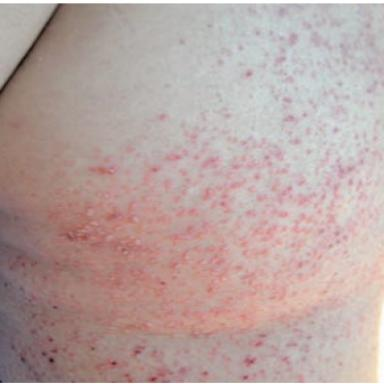Darier_s-Disease: (4, 6, 381, 384)
